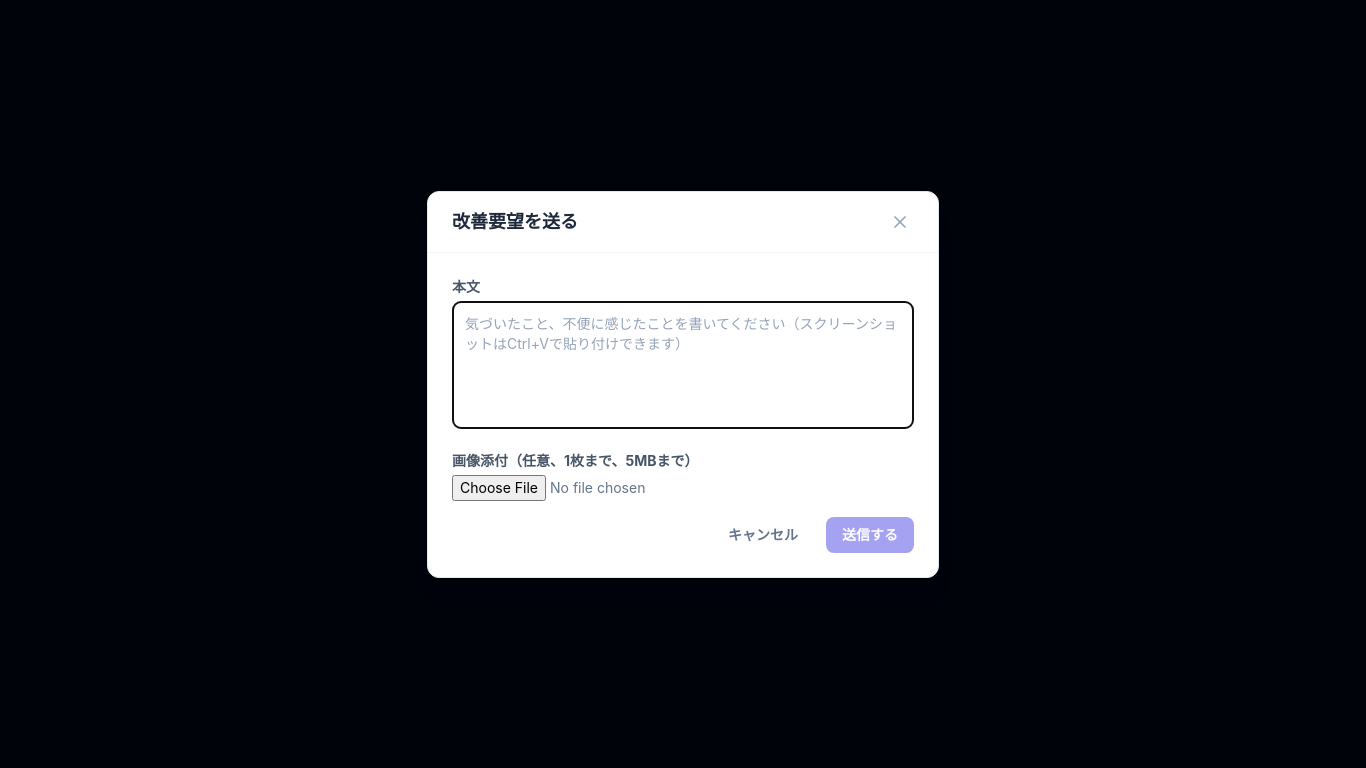
ImprovementRequestModal › 本文を入力すると送信ボタンが有効化される
In the text box labelled "本文": (683, 364) [452,300,914,428], type "カレンダーが使いづらい"
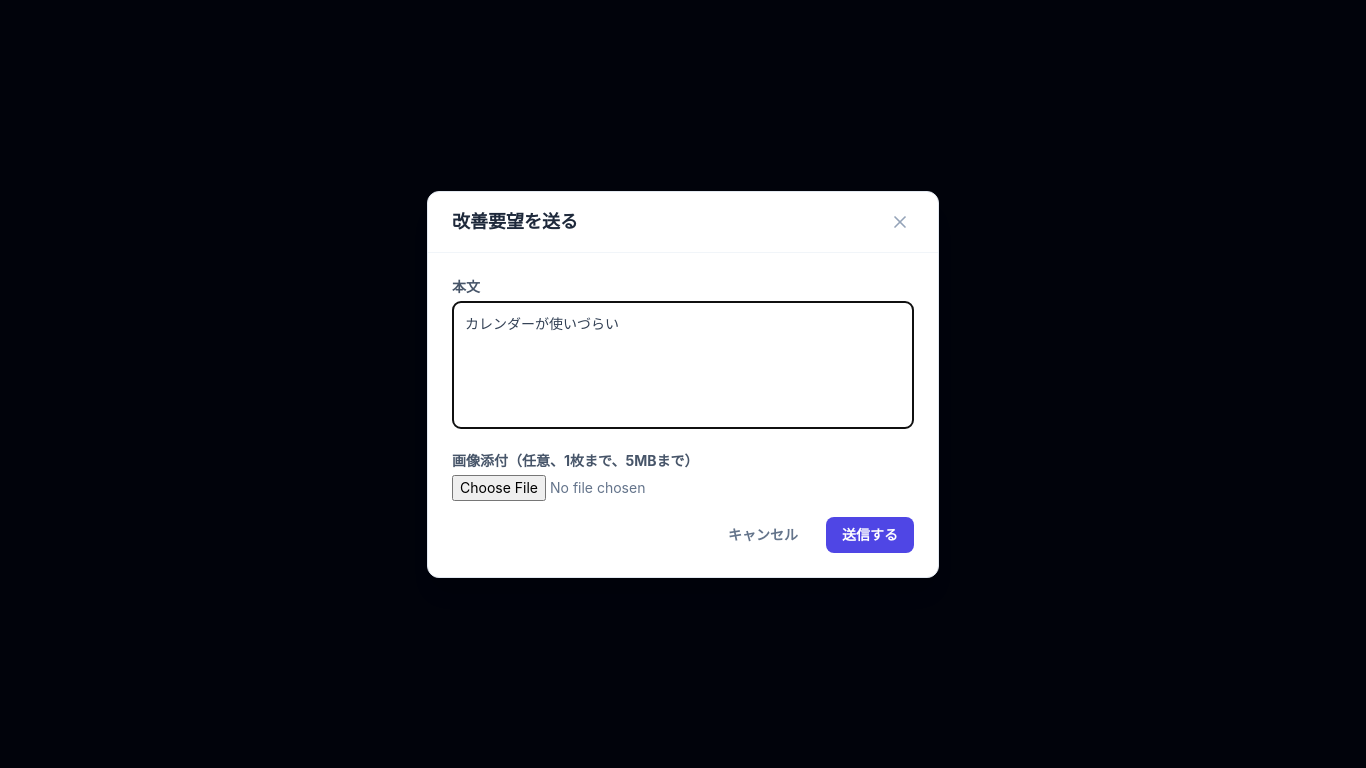
Check: the button "送信する" is enabled, box [826,516,914,552]
